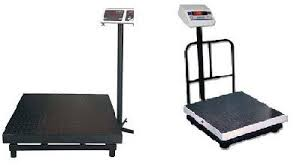Industrial Scale: (2, 8, 135, 158), (178, 4, 289, 150)
